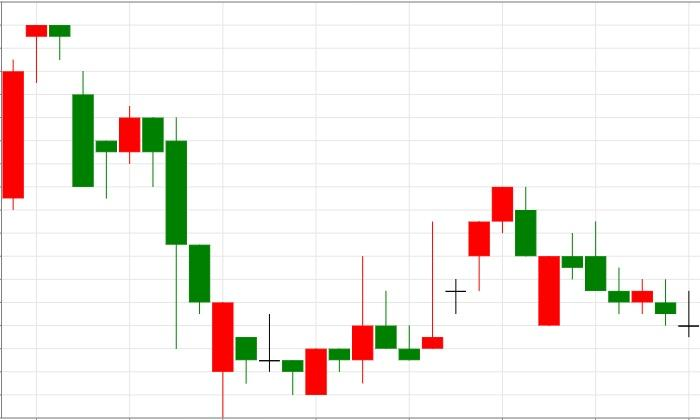bullish_engulfing_rise: (25, 24, 328, 418)
